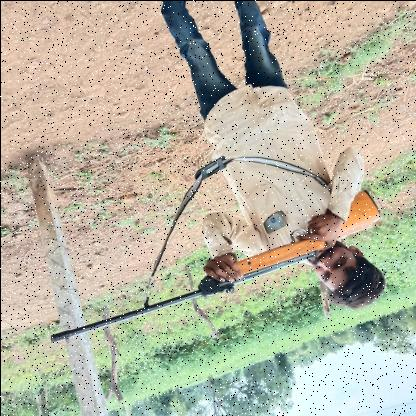rifle: (47, 185, 385, 346)
